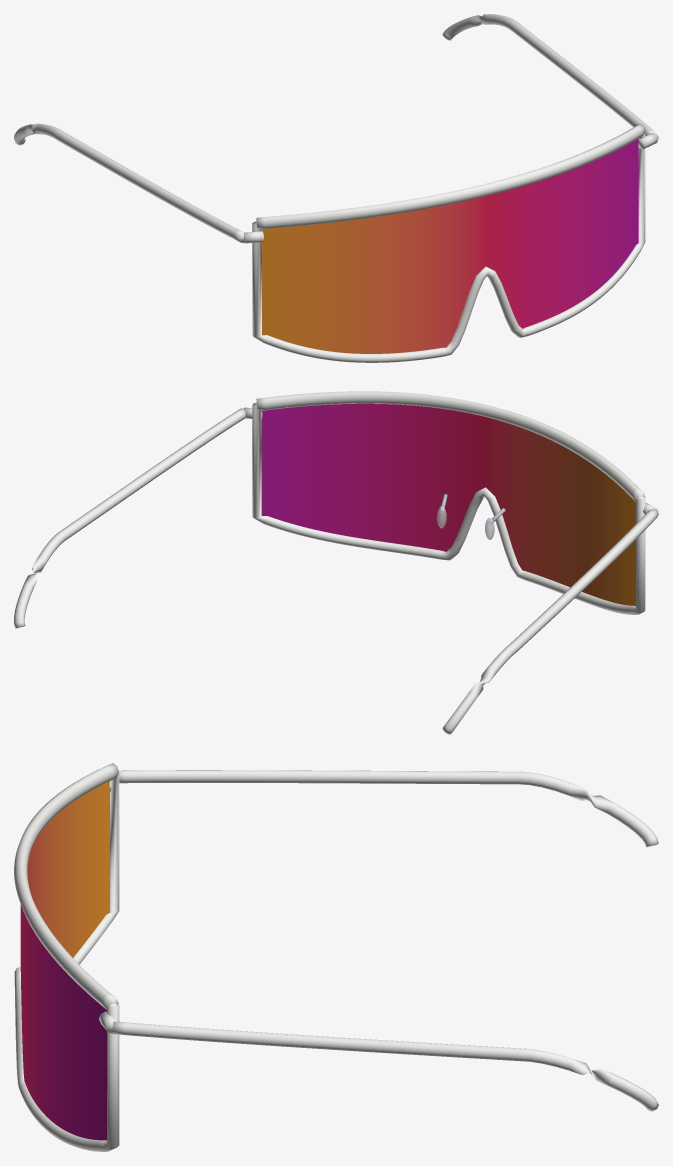
Rendered from tim-06-v1.glb.
3 views of the same model, one above another, from view 1: azimuth 30°, elevation 25°; view 2: azimuth 150°, elevation 25°; view 3: azimuth 270°, elevation 25° (orthographic). The views are drawn at different scales.
Visible parts, largest first — view 1: lens_shield, shield_contour, shield_upper_rail, temple_right, temple_left; view 2: lens_shield, shield_contour, shield_upper_rail, temple_left, temple_right; view 3: lens_shield, temple_left, temple_right, shield_contour, shield_upper_rail.
Part boxes in pixels (x1=…): lens_shield: x1=262, y1=139, x2=638, y2=353; shield_contour: x1=252, y1=132, x2=645, y2=362; shield_upper_rail: x1=256, y1=124, x2=645, y2=229; temple_right: x1=14, y1=123, x2=243, y2=242; temple_left: x1=442, y1=14, x2=658, y2=138; lens_shield: x1=261, y1=403, x2=635, y2=605; shield_contour: x1=252, y1=402, x2=645, y2=614; shield_upper_rail: x1=256, y1=391, x2=645, y2=501; temple_left: x1=14, y1=408, x2=245, y2=628; temple_right: x1=442, y1=508, x2=658, y2=734; lens_shield: x1=20, y1=781, x2=109, y2=1140; temple_left: x1=112, y1=1021, x2=658, y2=1111; temple_right: x1=119, y1=770, x2=658, y2=847; shield_contour: x1=14, y1=770, x2=119, y2=1151; shield_upper_rail: x1=14, y1=763, x2=118, y2=1009.
Size of the model in its own units: 0.1735 by 0.0588 by 0.1674.
